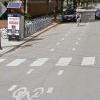Crosswalk: (2, 49, 92, 77)
